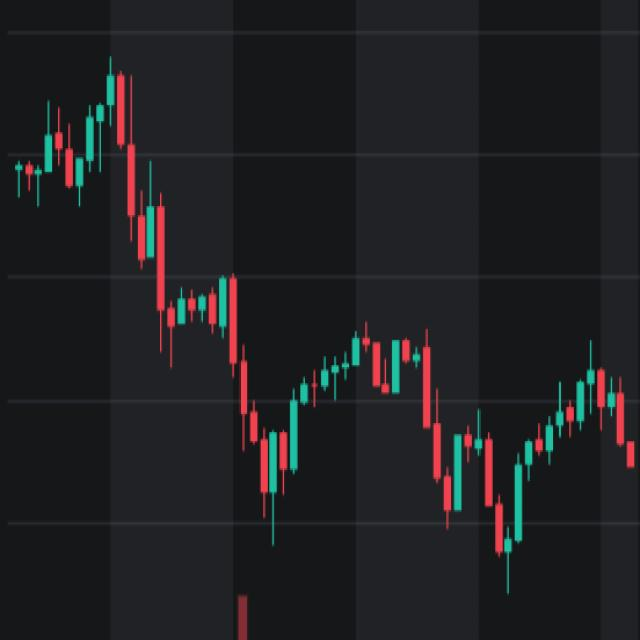Resistance-Emerging: (167, 271, 640, 568)
